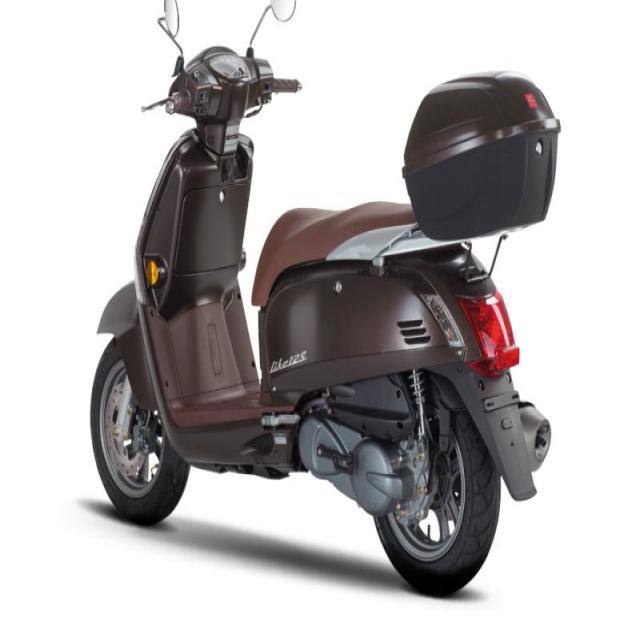Motorcycle: (90, 46, 561, 595)
